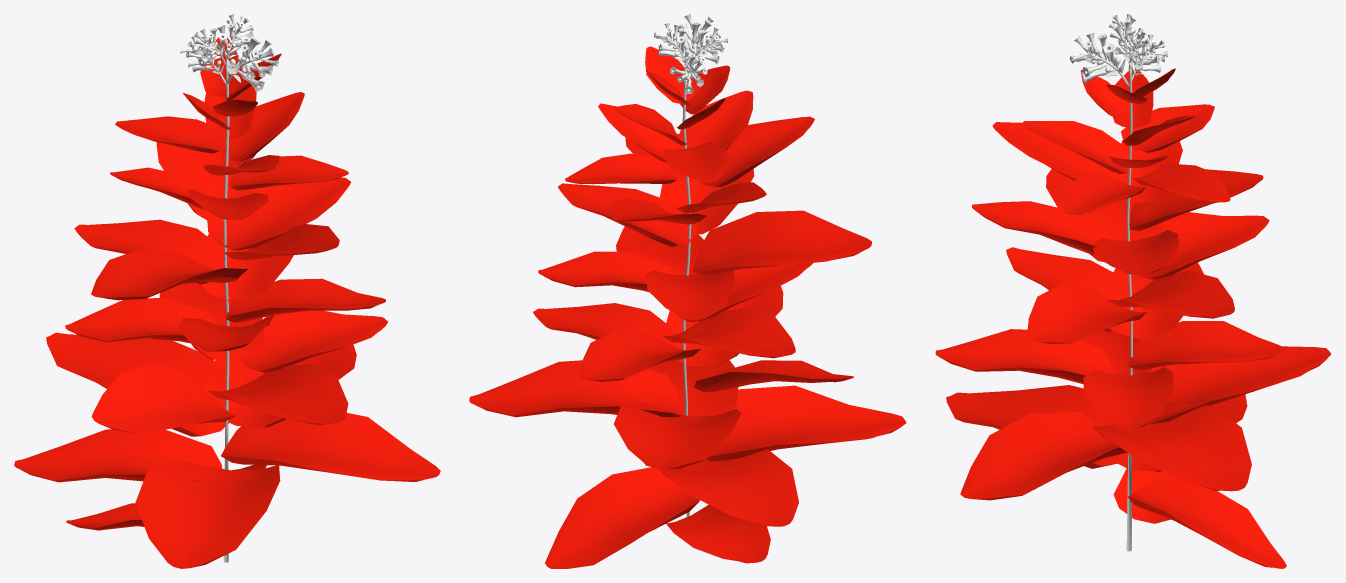
File: TabacoPlanta.fbx
3 renders of one model, left to right at view 1: azimuth 30°, elevation 25°; view 2: azimuth 150°, elevation 25°; view 3: azimuth 270°, elevation 25°, orthographic. The views are drawn at different scales.
Parts seen in each view (by area): view 1: Retopo_Plant.025, Retopo_Plant.024, Retopo_Plant.026, Retopo_Plant.018, Retopo_Plant.022, Retopo_Plant.020, Retopo_Plant.019, Retopo_Plant.012, Retopo_Plant.013, Retopo_Plant.029, Retopo_Plant.014, Retopo_Plant.016 (+19 smaller); view 2: Retopo_Plant.028, Retopo_Plant.025, Retopo_Plant.013, Retopo_Plant.023, Retopo_Plant.026, Retopo_Plant.022, Retopo_Plant.029, Retopo_Plant.027, Retopo_Plant.021, Retopo_Plant.020, Retopo_Plant.015, Retopo_Plant.012 (+20 smaller); view 3: Retopo_Plant.024, Retopo_Plant.023, Retopo_Plant.028, Retopo_Plant.022, Retopo_Plant.019, Retopo_Plant.021, Retopo_Plant.025, Retopo_Plant.016, Retopo_Plant.020, Retopo_Plant.014, Retopo_Plant.015, Retopo_Plant.017 (+20 smaller).
Boxes of the visible parts, x1,y1,x2,y2 form: Retopo_Plant.025: (135,458,280,568); Retopo_Plant.024: (221,413,440,481); Retopo_Plant.026: (14,429,222,482); Retopo_Plant.018: (91,363,236,434); Retopo_Plant.022: (46,332,239,436); Retopo_Plant.020: (239,310,387,372); Retopo_Plant.019: (207,364,348,425); Retopo_Plant.012: (207,177,350,250); Retopo_Plant.013: (91,249,247,300); Retopo_Plant.029: (65,297,216,343); Retopo_Plant.014: (74,219,227,284); Retopo_Plant.016: (226,278,385,322); Retopo_Plant.028: (545,467,699,568); Retopo_Plant.025: (705,385,906,461); Retopo_Plant.013: (692,210,871,274); Retopo_Plant.023: (469,360,682,417); Retopo_Plant.026: (659,445,798,526); Retopo_Plant.022: (614,402,741,468); Retopo_Plant.029: (662,308,795,358); Retopo_Plant.027: (666,504,770,563); Retopo_Plant.021: (579,331,700,381); Retopo_Plant.020: (533,303,677,346); Retopo_Plant.015: (538,251,676,291); Retopo_Plant.012: (558,183,696,246); Retopo_Plant.024: (960,411,1126,500); Retopo_Plant.023: (1091,401,1251,491); Retopo_Plant.028: (1128,477,1286,568); Retopo_Plant.022: (1149,346,1330,424); Retopo_Plant.019: (935,329,1114,384); Retopo_Plant.021: (1128,321,1284,369); Retopo_Plant.025: (946,385,1128,468); Retopo_Plant.016: (1027,284,1147,343); Retopo_Plant.020: (1083,367,1173,429); Retopo_Plant.014: (1135,212,1269,279); Retopo_Plant.015: (1108,271,1234,318); Retopo_Plant.017: (1006,247,1142,331).
Bounding box in the file's own units: 72.26 × 110 × 75.12.
